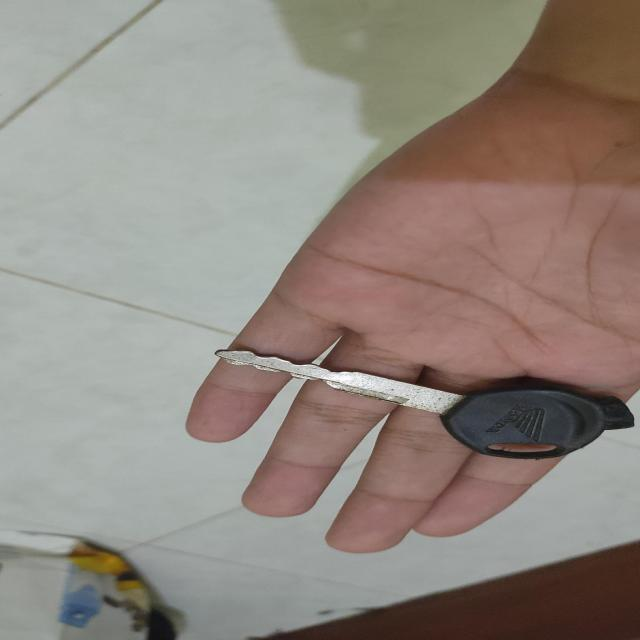kunci_motor: (201, 341, 639, 465)
